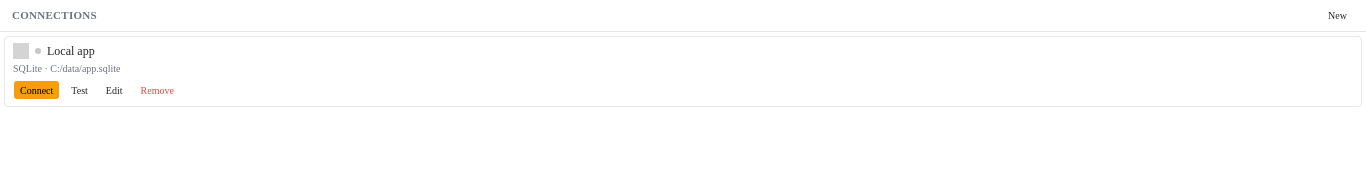
Scenario: ConnectionManager › disconnects the active profile
The width and height of the screenshot is (1366, 183).
Expected: the text "Local app" is shown, [47,44,95,58]
Step 1. Click the button with aria-label "Connect Local app" → (37, 90), box [13,80,60,100]
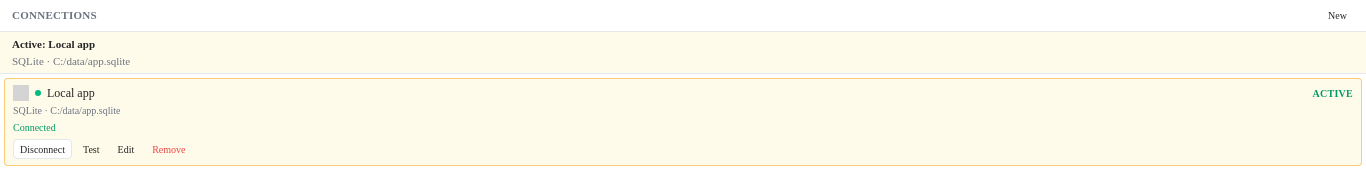
Expected: the text "Active: Local app" is shown, [12,38,95,50]
Step 2. Click the button "Disconnect" → (42, 149), box [13,139,72,159]
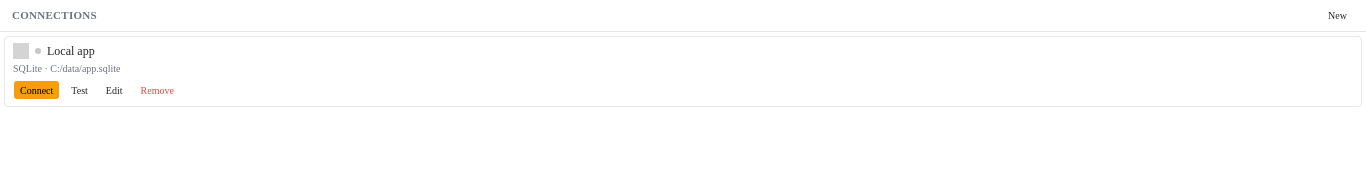
Expected: the button with aria-label "Connect Local app" is shown, [13,80,60,100]
Expected: the text "Active: Local app" is gone
